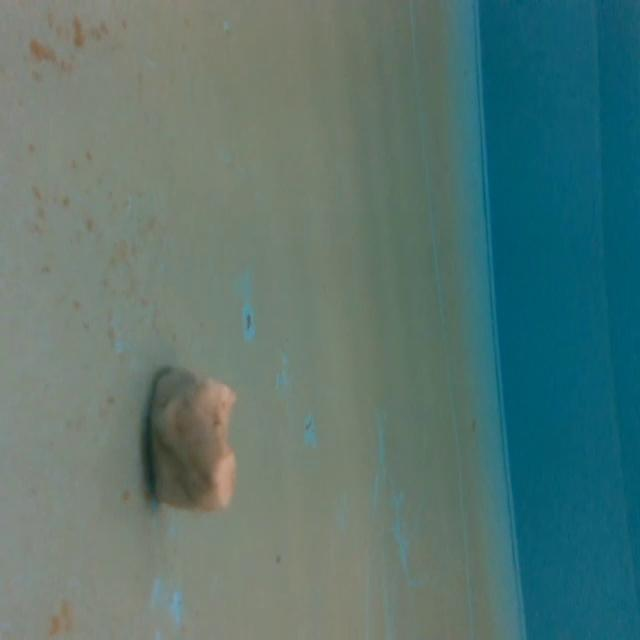rock: (147, 364, 243, 521)
